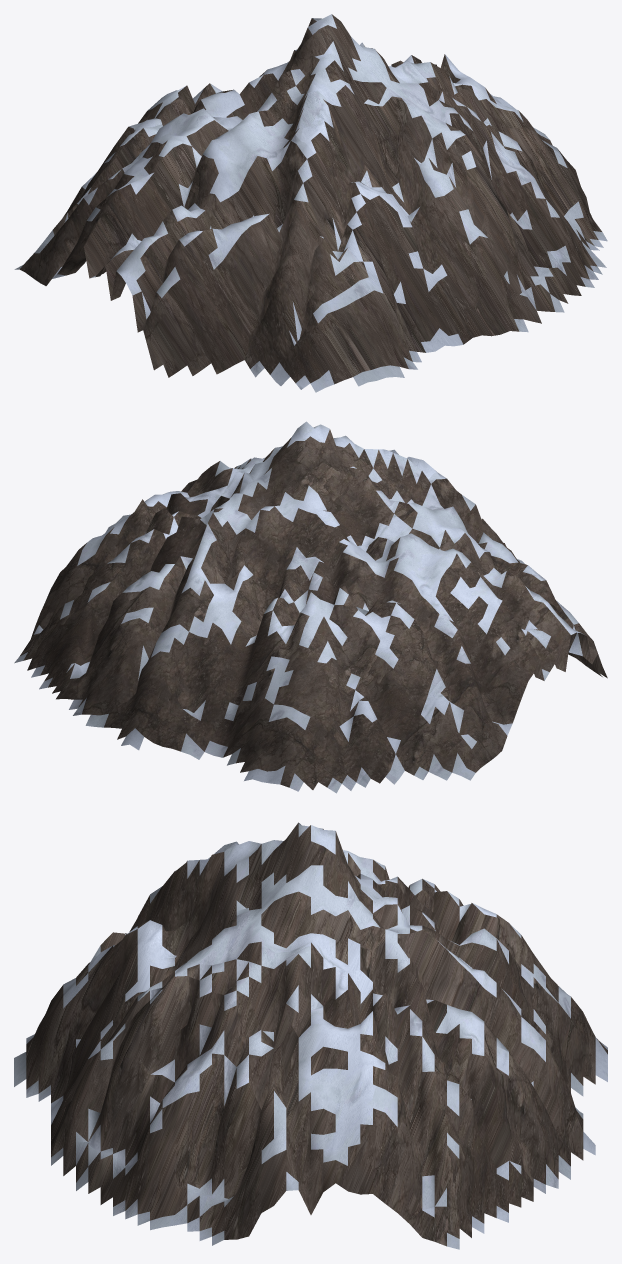
Rendered from border_peak_c_v5_winter.glb.
The picture shows the model from 3 angles, top to bottom: view 1: azimuth 30°, elevation 25°; view 2: azimuth 150°, elevation 25°; view 3: azimuth 270°, elevation 25°; orthographic projection. The views are drawn at different scales.
Visible parts, largest first — view 1: border_peak_c; view 2: border_peak_c; view 3: border_peak_c.
Part boxes in pixels (x1,y1,x2,y2): border_peak_c: (14, 14, 607, 392); border_peak_c: (14, 421, 607, 793); border_peak_c: (14, 822, 607, 1249).
Bounding box in the file's own units: 1 × 0.5141 × 0.9412.
Materials: 2 (2 with a texture image).
